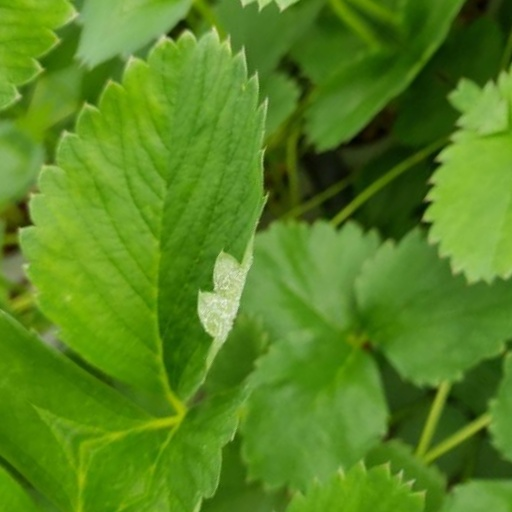Powdery Mildew Leaf: (218, 97, 486, 443)
